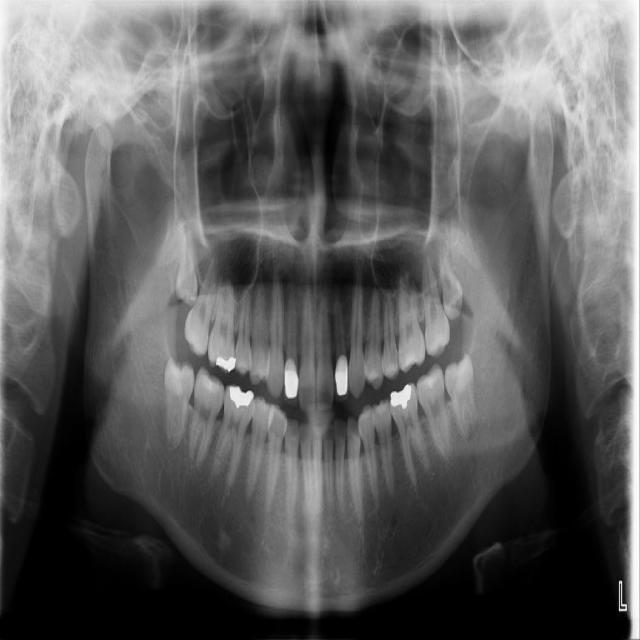Filling: (333, 359, 351, 401), (283, 364, 299, 407), (389, 383, 414, 409), (229, 384, 253, 409), (213, 353, 235, 371)
impacted tooth: (445, 355, 479, 439), (163, 356, 191, 452), (175, 211, 199, 307), (438, 239, 462, 317)
